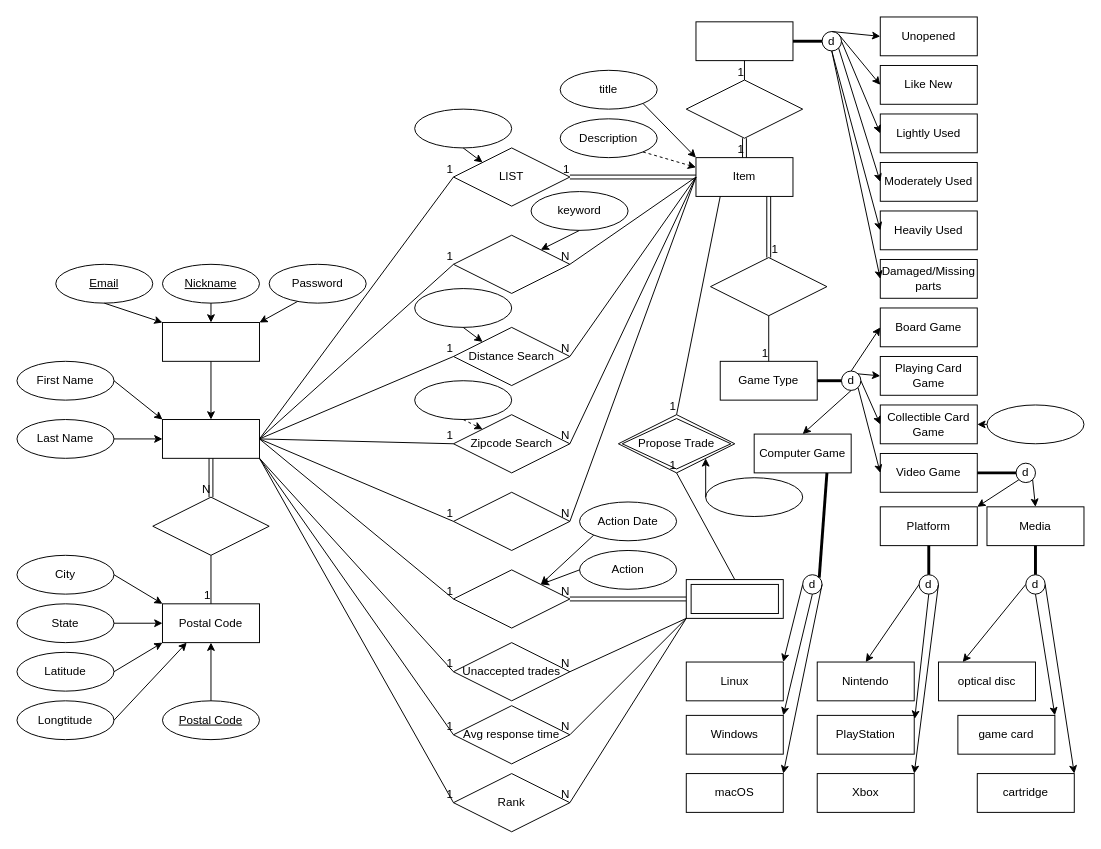
This 1101x849 diagram has some shape labels left out. The box of each missing label's shape, as (x1, y1, x2, y2) in pixels:
ACCEPT/REJECT: (453, 569, 570, 628)
Condition: (695, 21, 793, 61)
distance: (414, 288, 512, 327)
Drop Down Select: (685, 79, 803, 138)
Get MyItem: (453, 491, 570, 550)
In zipcode: (414, 380, 512, 420)
Item Number: (414, 108, 512, 148)
Keyword Search: (453, 234, 570, 293)
LOOKUP: (152, 496, 269, 555)
Number of Cards being offered: (986, 404, 1084, 444)
Proposal Date: (705, 477, 803, 517)
RegUser: (162, 419, 259, 458)
SELECT: (710, 257, 827, 316)
Trade: (685, 579, 783, 618)
User: (162, 322, 259, 361)
